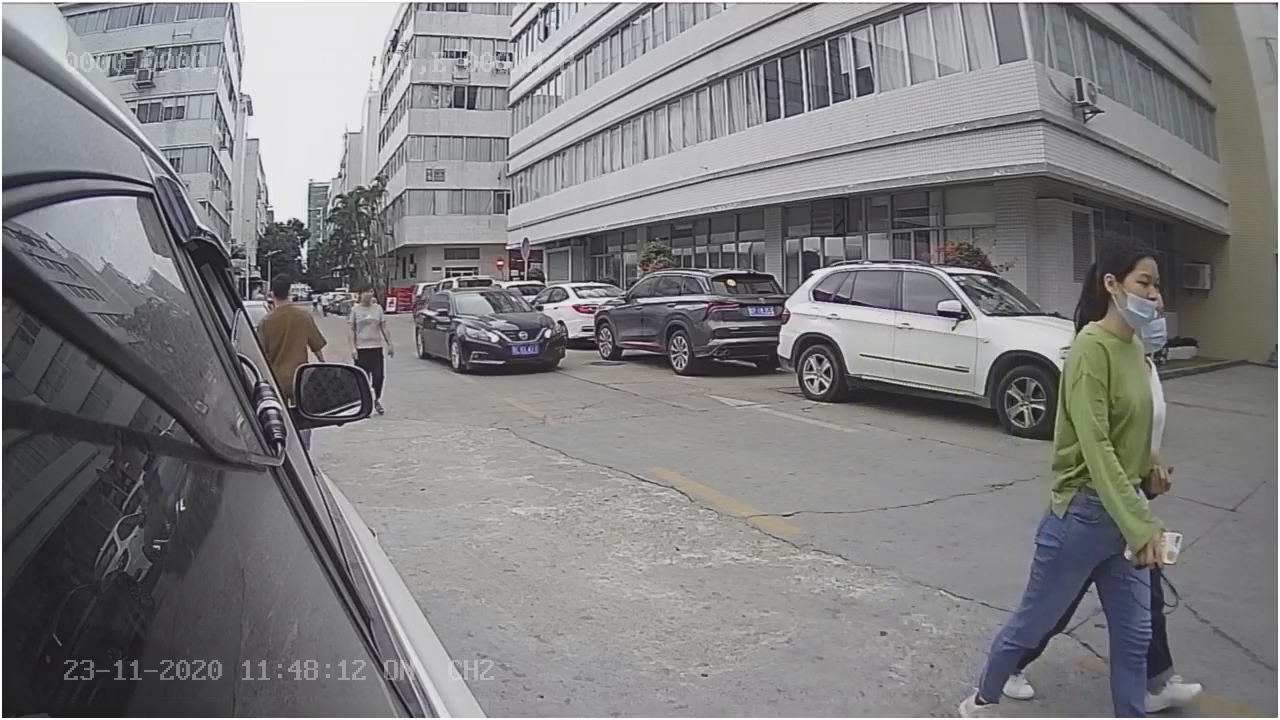person: (1045, 243, 1194, 567)
